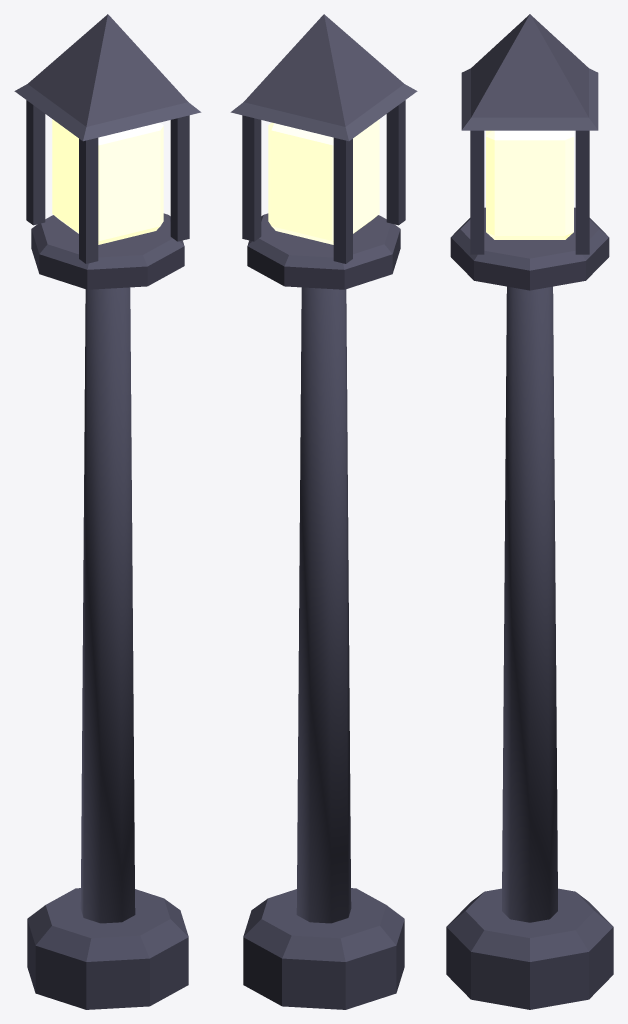
Rendered from LampPost.glb.
The picture shows the model from 3 angles, left to right: view 1: azimuth 30°, elevation 25°; view 2: azimuth 150°, elevation 25°; view 3: azimuth 270°, elevation 25°; orthographic projection.
Parts seen in each view (by area): view 1: LampPost, LampPost_Glow_lamp; view 2: LampPost, LampPost_Glow_lamp; view 3: LampPost, LampPost_Glow_lamp.
Boxes of the visible parts, bbox=[...] form: LampPost: bbox=[14, 14, 201, 1009]; LampPost_Glow_lamp: bbox=[52, 119, 163, 244]; LampPost: bbox=[230, 14, 417, 1009]; LampPost_Glow_lamp: bbox=[268, 119, 379, 244]; LampPost: bbox=[446, 14, 613, 1009]; LampPost_Glow_lamp: bbox=[486, 130, 573, 239].
Size of the model in its own units: 1.9 by 12.05 by 1.9.
Materials: 2 (1 with a texture image).
